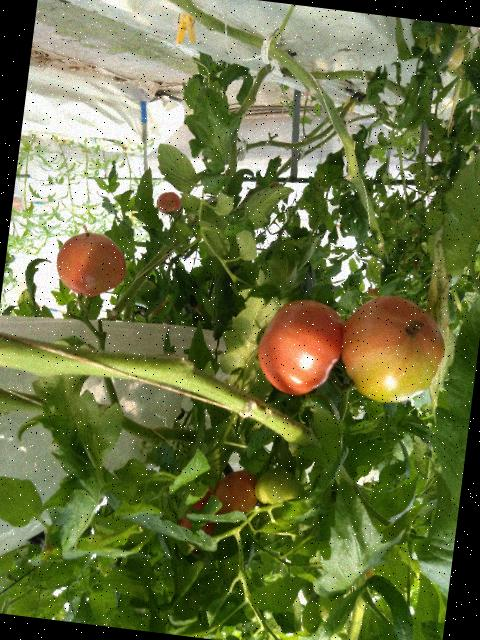b_fully_ripened: (252, 293, 347, 400)
b_green: (253, 465, 308, 509), (417, 25, 444, 55), (444, 41, 465, 71)
b_half_ripened: (334, 289, 451, 409), (53, 228, 130, 301), (210, 466, 261, 519), (155, 190, 182, 215)
